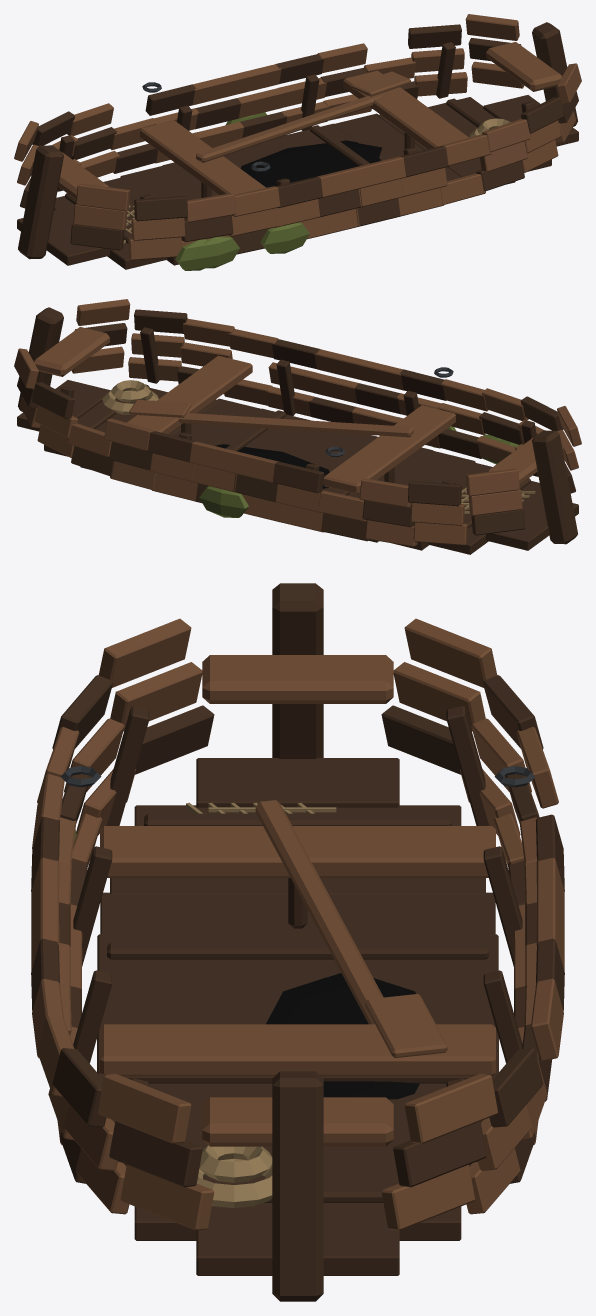
The model's file is boat2.glb.
3 views of the same model, one above another, from view 1: azimuth 30°, elevation 25°; view 2: azimuth 150°, elevation 25°; view 3: azimuth 270°, elevation 25° (orthographic). The views are drawn at different scales.
Parts seen in each view (by area): view 1: Boat; view 2: Boat; view 3: Boat.
Boxes of the visible parts, x1=… form: Boat: x1=14, y1=14, x2=581, y2=270; Boat: x1=14, y1=299, x2=581, y2=554; Boat: x1=31, y1=583, x2=564, y2=1301.
Size of the model in its own units: 2 by 0.362 by 0.8362.
